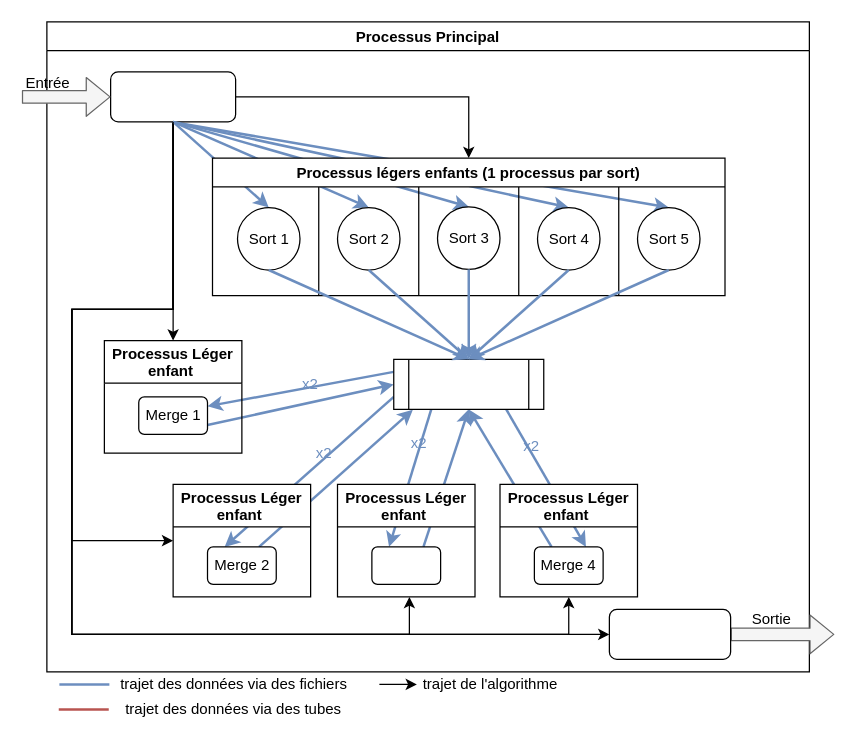
Some shapes in this 855 by 744 pixel diagram are drawn without their labels. The shapes that lost their labels are listed below. From the top down, each one's centre as x and y in pixels, then its label:
the point at 172,96: Split en 5 sous fichier
the point at 468,383: File d'attente (FIFO)
the point at 406,565: Merge 3
the point at 669,633: Attend la fin de tous les threads
